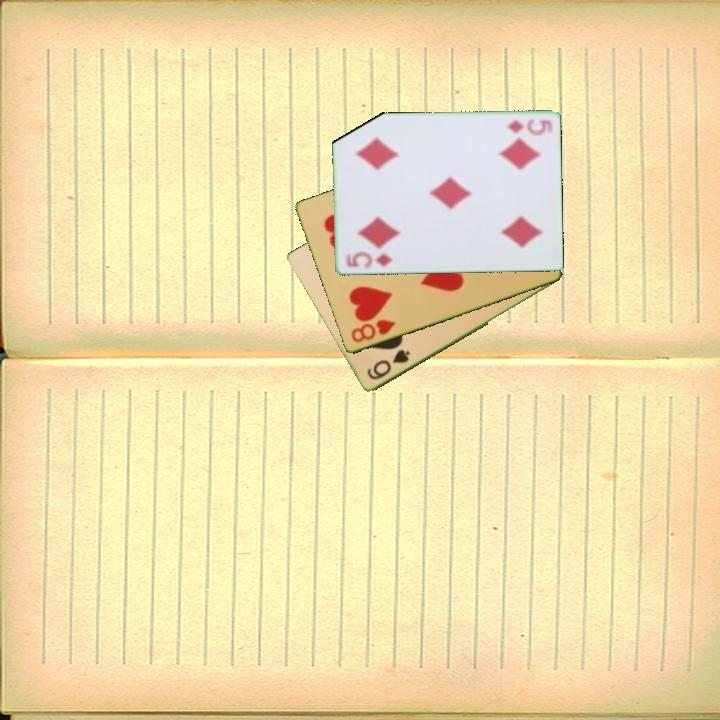5d: (341, 248, 395, 272), (503, 115, 555, 137)
6s: (363, 346, 413, 383)
8h: (347, 316, 398, 346)
